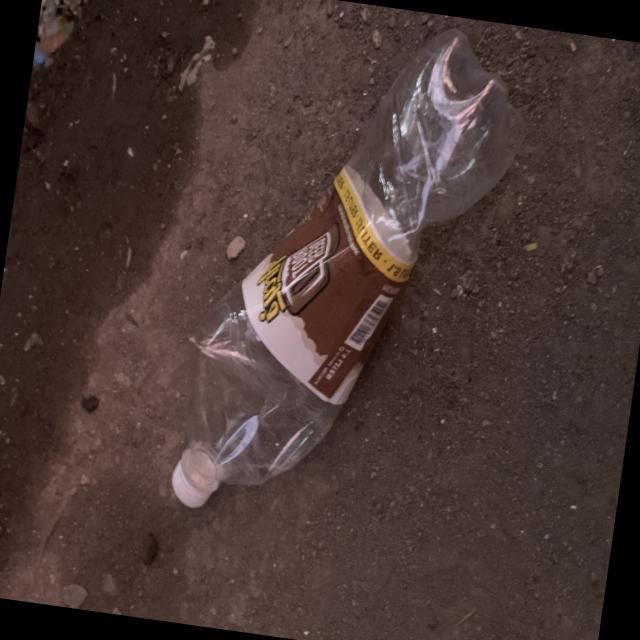Bottle: (172, 28, 525, 507)
